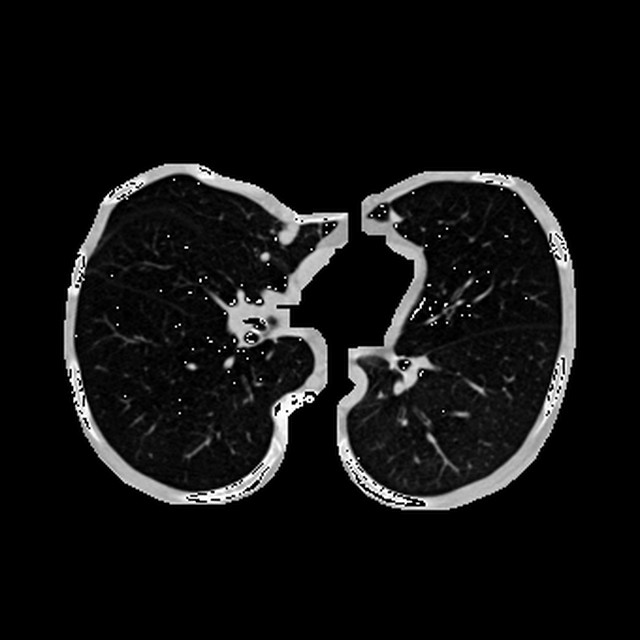PN: (260, 250, 271, 262)
